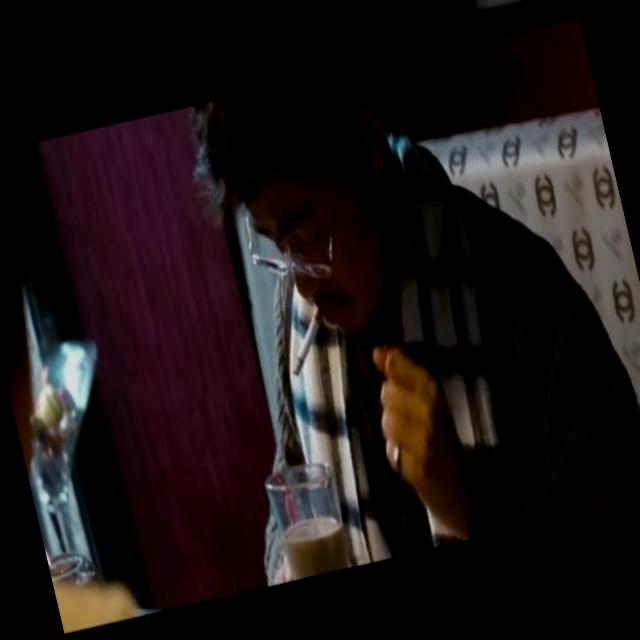cigarette: (270, 297, 339, 386)
